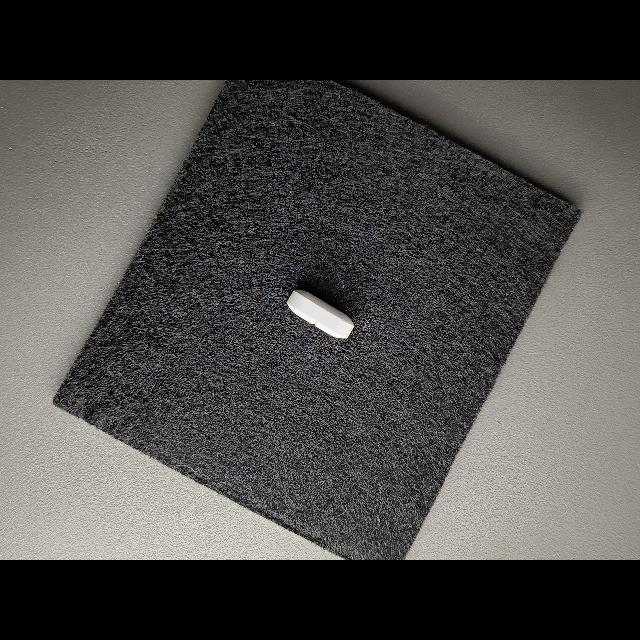Intact Pill: (287, 290, 355, 339)
